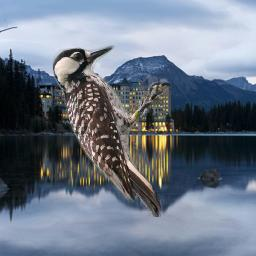Woodpecker: (52, 45, 168, 217)
